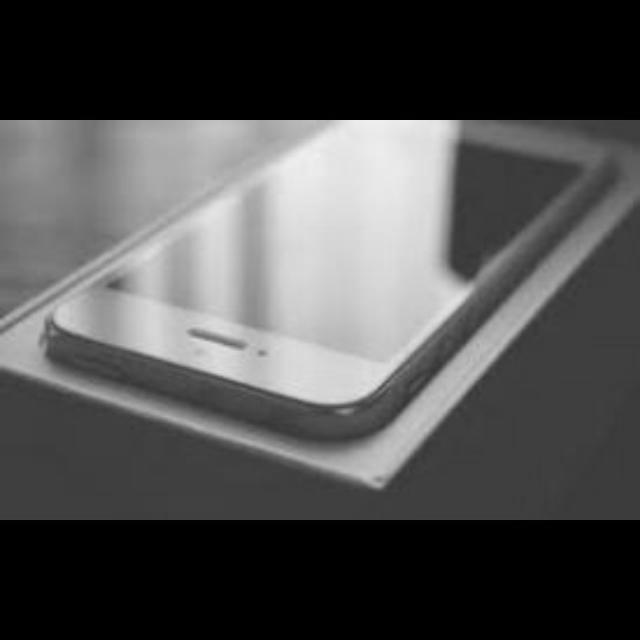fake: (66, 131, 614, 497)
